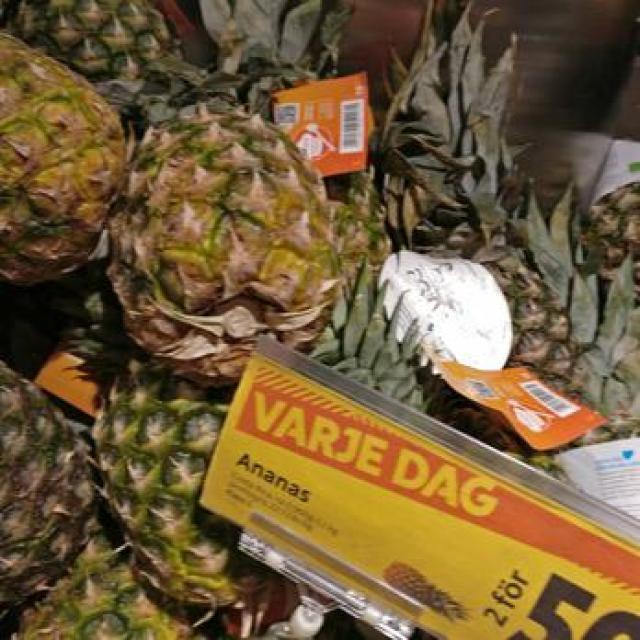pineapple: (109, 112, 338, 384), (92, 360, 236, 608), (0, 32, 124, 284), (0, 0, 242, 128), (1, 361, 94, 622), (12, 535, 188, 639)
